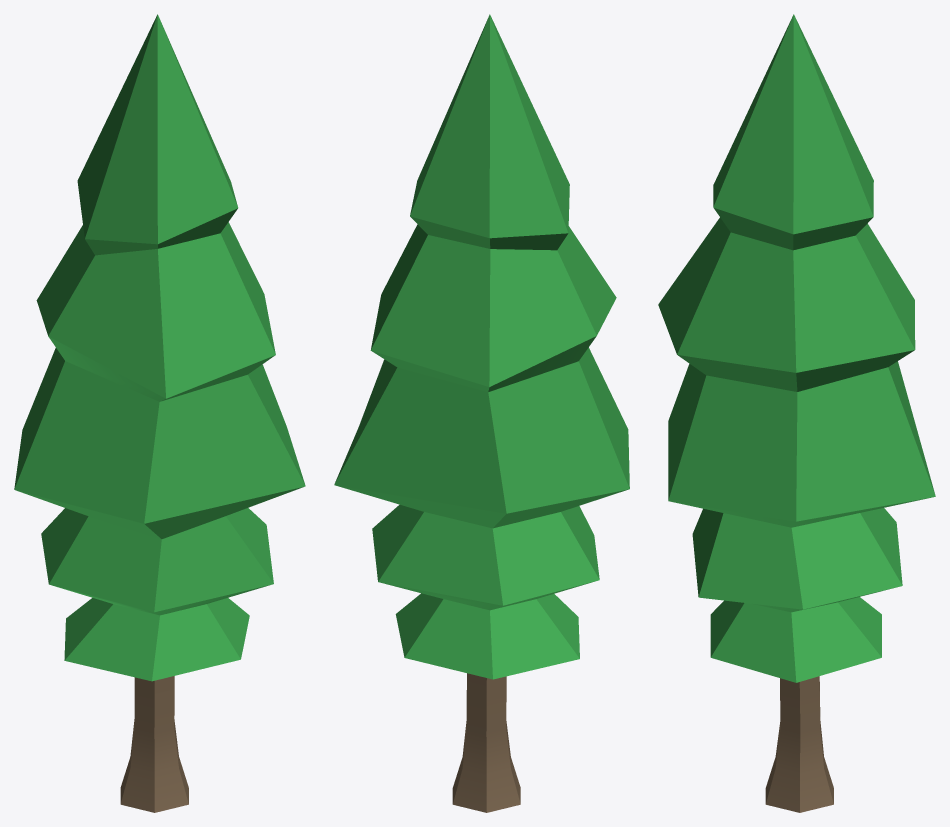
File: PineTree_Alternative.fbx
3 renders of one model, left to right at view 1: azimuth 30°, elevation 25°; view 2: azimuth 150°, elevation 25°; view 3: azimuth 270°, elevation 25°, orthographic.
Parts seen in each view (by area): view 1: PineAlternative_02; view 2: PineAlternative_02; view 3: PineAlternative_02.
Part boxes in pixels (<box>): PineAlternative_02: <box>14,14,305,812</box>; PineAlternative_02: <box>334,14,629,812</box>; PineAlternative_02: <box>658,14,935,812</box>.
Size of the model in its own units: 2.93 by 8.07 by 2.6.
Materials: 1 (1 with a texture image).
